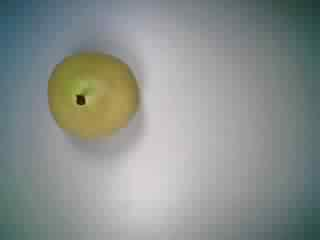pear: (41, 43, 152, 146)
